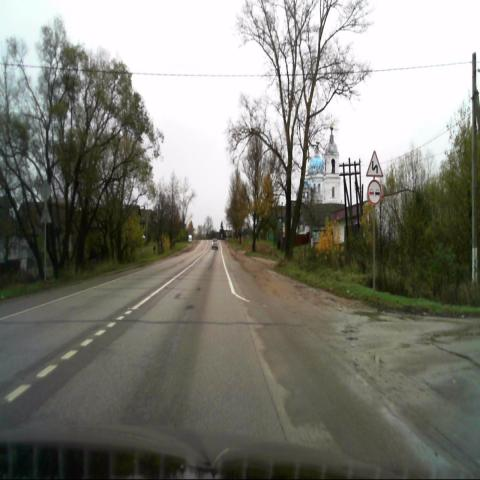1_12_2: (366, 151, 383, 177)
